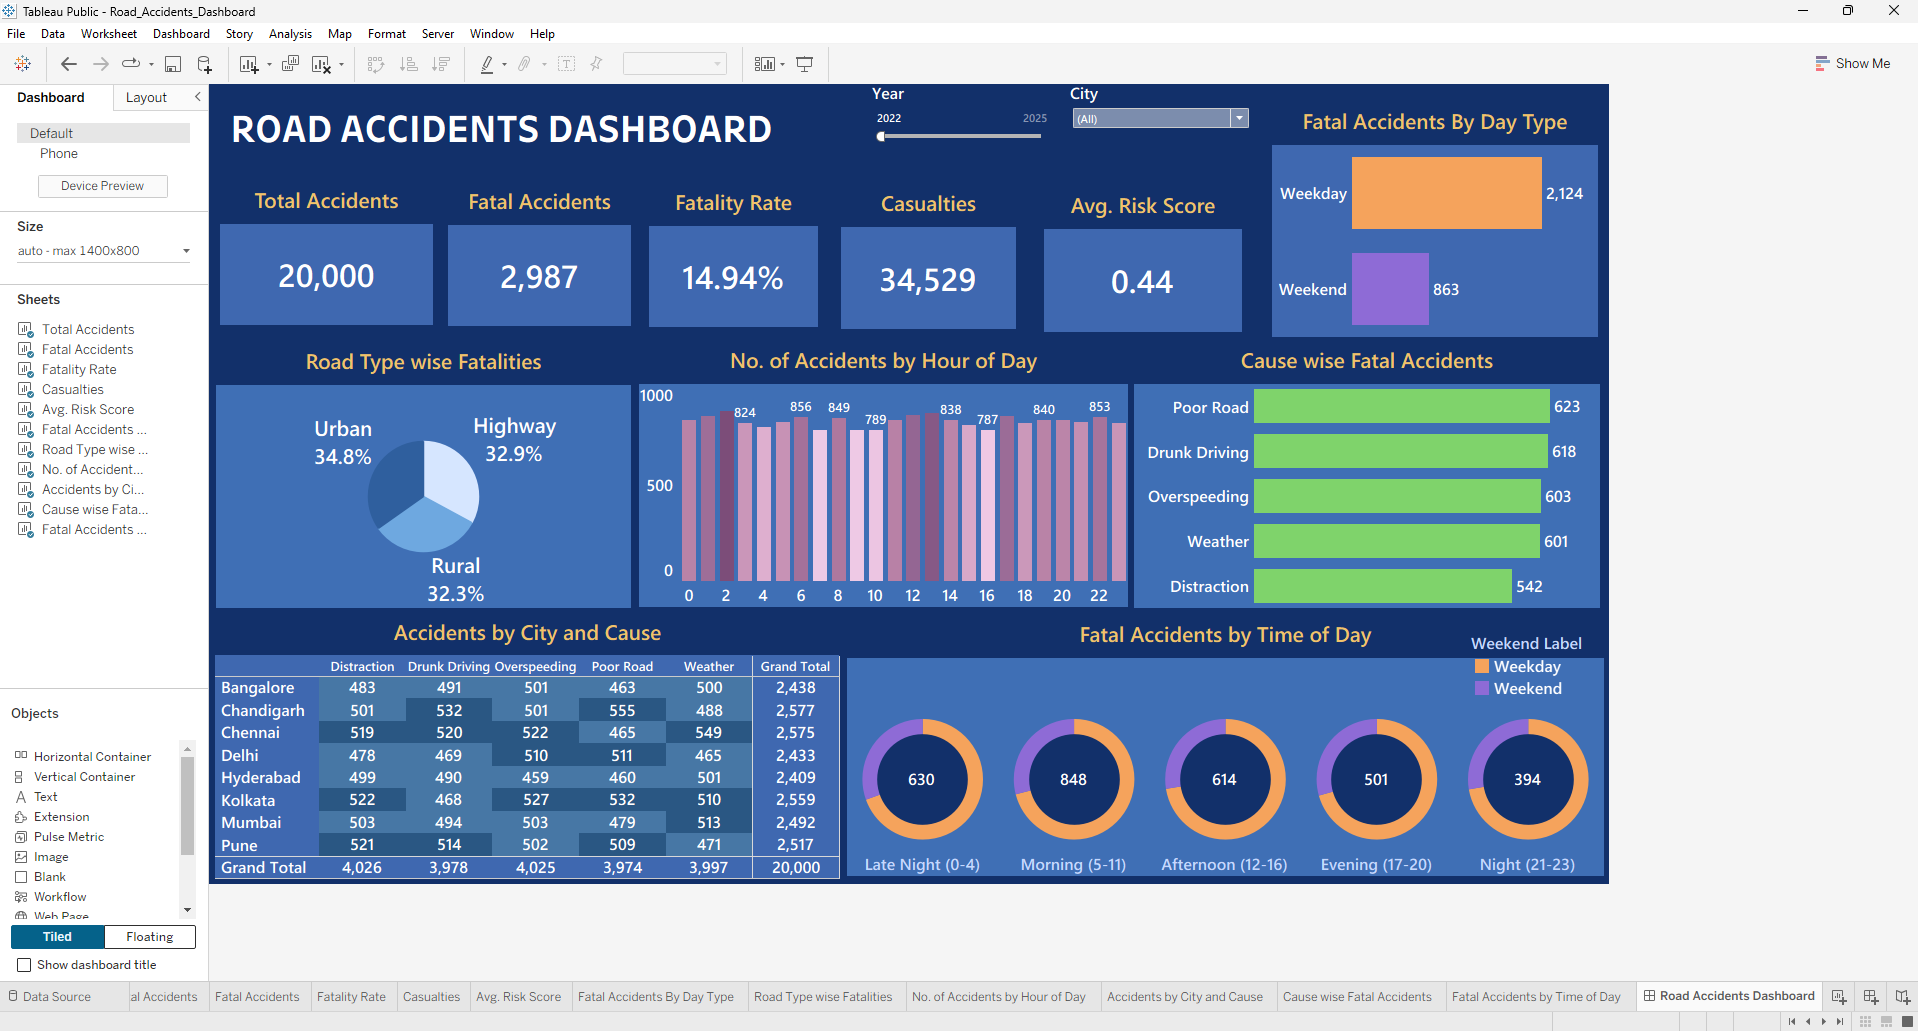

The page's visual inventory and layout, read from the dashboard file:
{"tool":"tableau","page":{"name":"Road Accidents Dashboard","canvas":[1000,1000],"units":"permille","ordinal":0},"visuals":[{"type":"text","box":[13.3,20.2,418,67.4]},{"type":"worksheet","title":"Fatal Accidents By Day Type","mark":"Bar","rows":["weekend_label"],"cols":["Calculation_1584447364726784"],"box":[759.3,22.5,232.9,293.8]},{"type":"worksheet","title":"Total Accidents","mark":"Automatic","box":[7.9,121.2,152.1,180]},{"type":"worksheet","title":"Fatal Accidents","mark":"Automatic","box":[170.7,122.5,130.7,180]},{"type":"worksheet","title":"Fatality Rate","mark":"Automatic","box":[314.3,123.8,120.7,180]},{"type":"worksheet","title":"Casualties","mark":"Automatic","box":[451.4,125,125,181.2]},{"type":"worksheet","title":"Avg. Risk Score","mark":"Automatic","box":[596.4,127.5,141.4,182.5]},{"type":"worksheet","title":"No. of Accidents by Hour of Day","mark":"Bar","rows":["Calculation_1584447365963777"],"cols":["hour"],"box":[307.1,321.2,349.3,332.5]},{"type":"worksheet","title":"Cause wise Fatal Accidents","mark":"Automatic","rows":["cause"],"cols":["Calculation_1584447364726784"],"box":[660.7,321.2,332.9,333.8]},{"type":"worksheet","title":"Road Type wise Fatalities","mark":"Pie","box":[5,322.5,296.4,332.5]},{"type":"worksheet","title":"Accidents by City and Cause","mark":"Square","rows":["city"],"cols":["cause"],"box":[4.3,661.2,446.4,332.5]},{"type":"worksheet","title":"Fatal Accidents by Time of Day","mark":"Automatic","rows":["Calculation_1584447390498820","Calculation_1584447390519302"],"cols":["time_of_day"],"box":[455.7,663.8,540.7,326.2]}]}

Visuals, with their boxes on the dashboard's canvas, which has no fixed pixel size, in thousandths of its width and height (x1, y1, x2, y2). These are canvas units, not pixel positions in the 1918x1031 screenshot, which may show the page scaled, cropped or inside an application window:
text: crop(13, 20, 431, 88)
"Fatal Accidents By Day Type" worksheet (Bar marks): crop(759, 22, 992, 316)
"Total Accidents" worksheet: crop(8, 121, 160, 301)
"Fatal Accidents" worksheet: crop(171, 122, 301, 302)
"Fatality Rate" worksheet: crop(314, 124, 435, 304)
"Casualties" worksheet: crop(451, 125, 576, 306)
"Avg. Risk Score" worksheet: crop(596, 128, 738, 310)
"No. of Accidents by Hour of Day" worksheet (Bar marks): crop(307, 321, 656, 654)
"Cause wise Fatal Accidents" worksheet: crop(661, 321, 994, 655)
"Road Type wise Fatalities" worksheet (Pie marks): crop(5, 322, 301, 655)
"Accidents by City and Cause" worksheet (Square marks): crop(4, 661, 451, 994)
"Fatal Accidents by Time of Day" worksheet: crop(456, 664, 996, 990)
